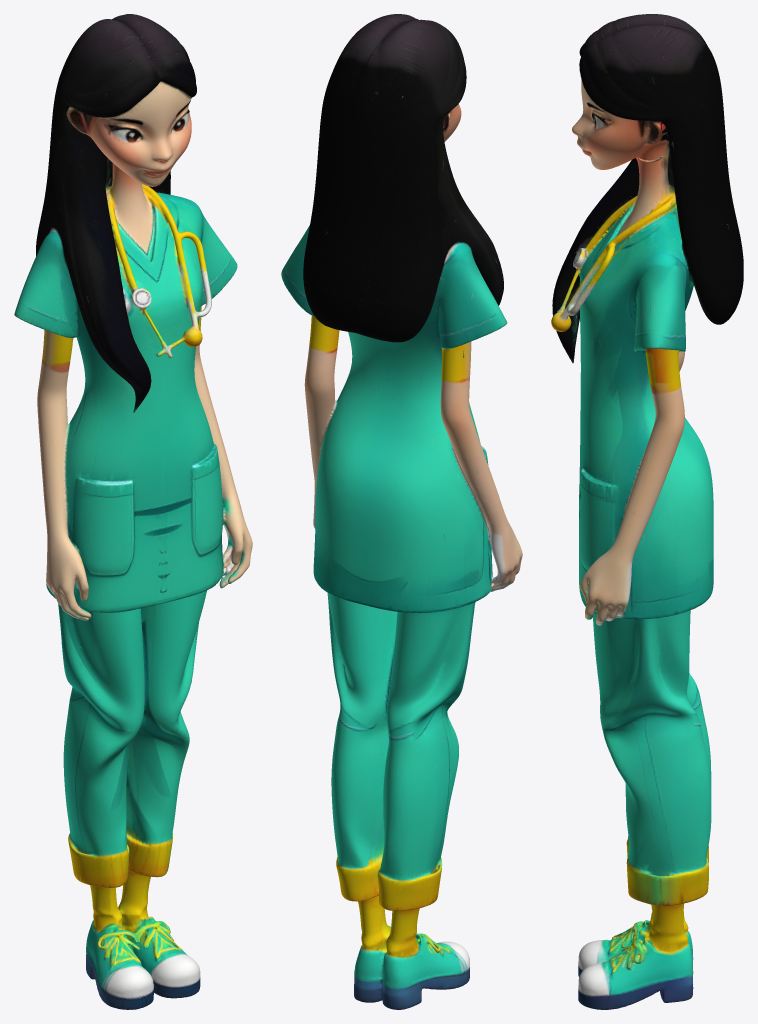
File: nurse-hero.glb
The picture shows the model from 3 angles, left to right: view 1: azimuth 30°, elevation 25°; view 2: azimuth 150°, elevation 25°; view 3: azimuth 270°, elevation 25°; orthographic projection.
Size of the model in its own units: 0.4577 by 1.9 by 0.3428.
1 material, 1 textured.
